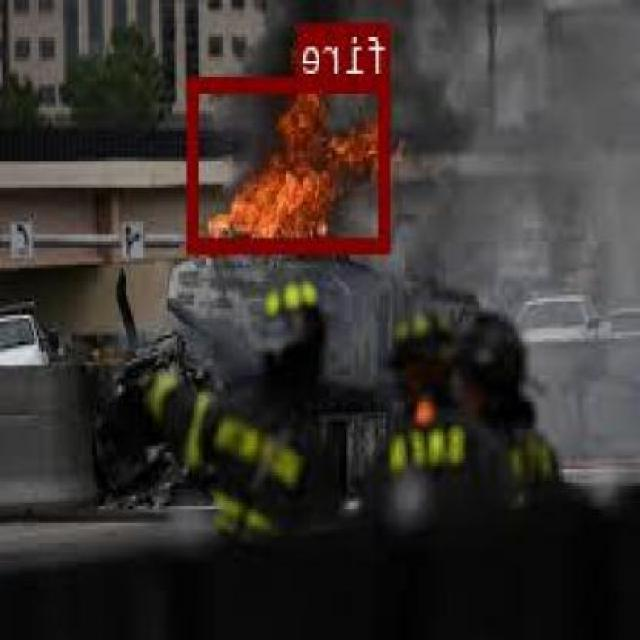Fire: (191, 74, 392, 248)
